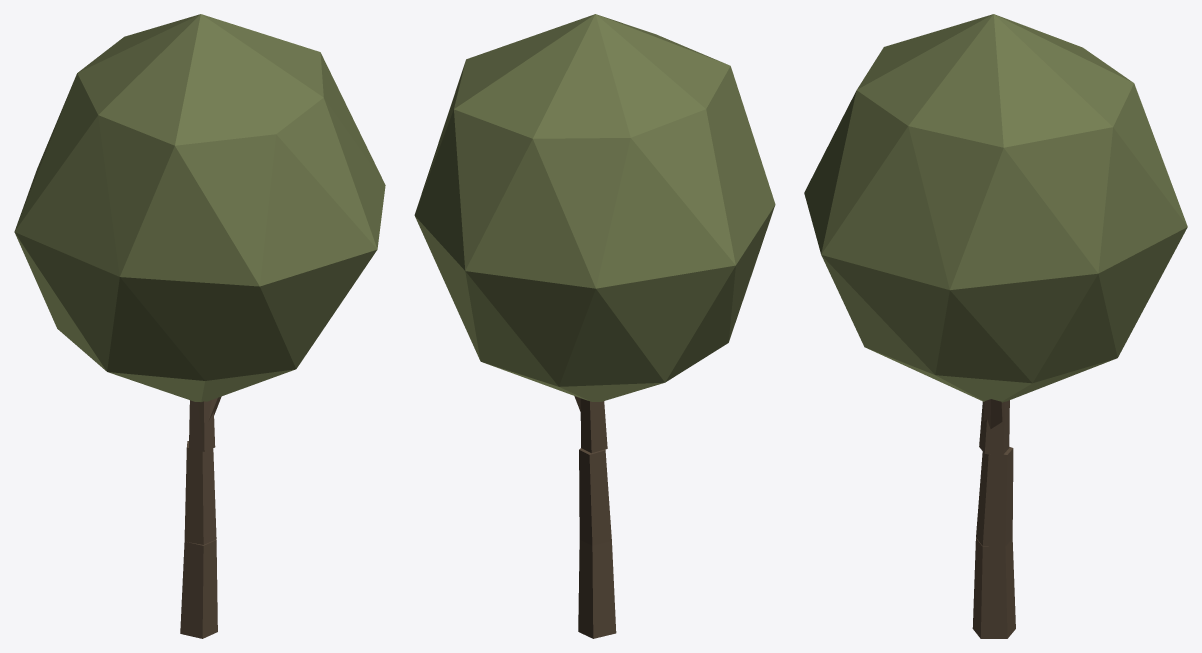
3 renders of one model, left to right at view 1: azimuth 30°, elevation 25°; view 2: azimuth 150°, elevation 25°; view 3: azimuth 270°, elevation 25°, orthographic.
Visible parts, largest first — view 1: low-previous; view 2: low-previous; view 3: low-previous.
Part boxes in pixels (<box>): low-previous: <box>14,14,385,638</box>; low-previous: <box>414,14,775,638</box>; low-previous: <box>804,14,1187,638</box>.
Bounding box in the file's own units: 8.59 × 15.5 × 8.7.
